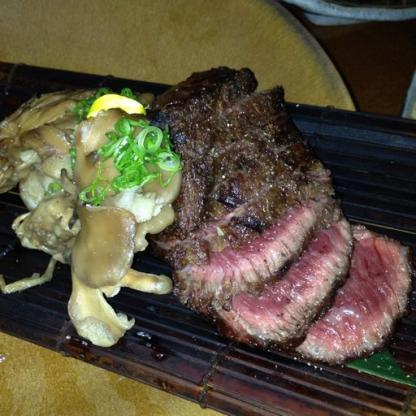beef: (158, 67, 308, 260), (184, 160, 336, 305), (218, 194, 346, 348), (281, 220, 413, 363)
